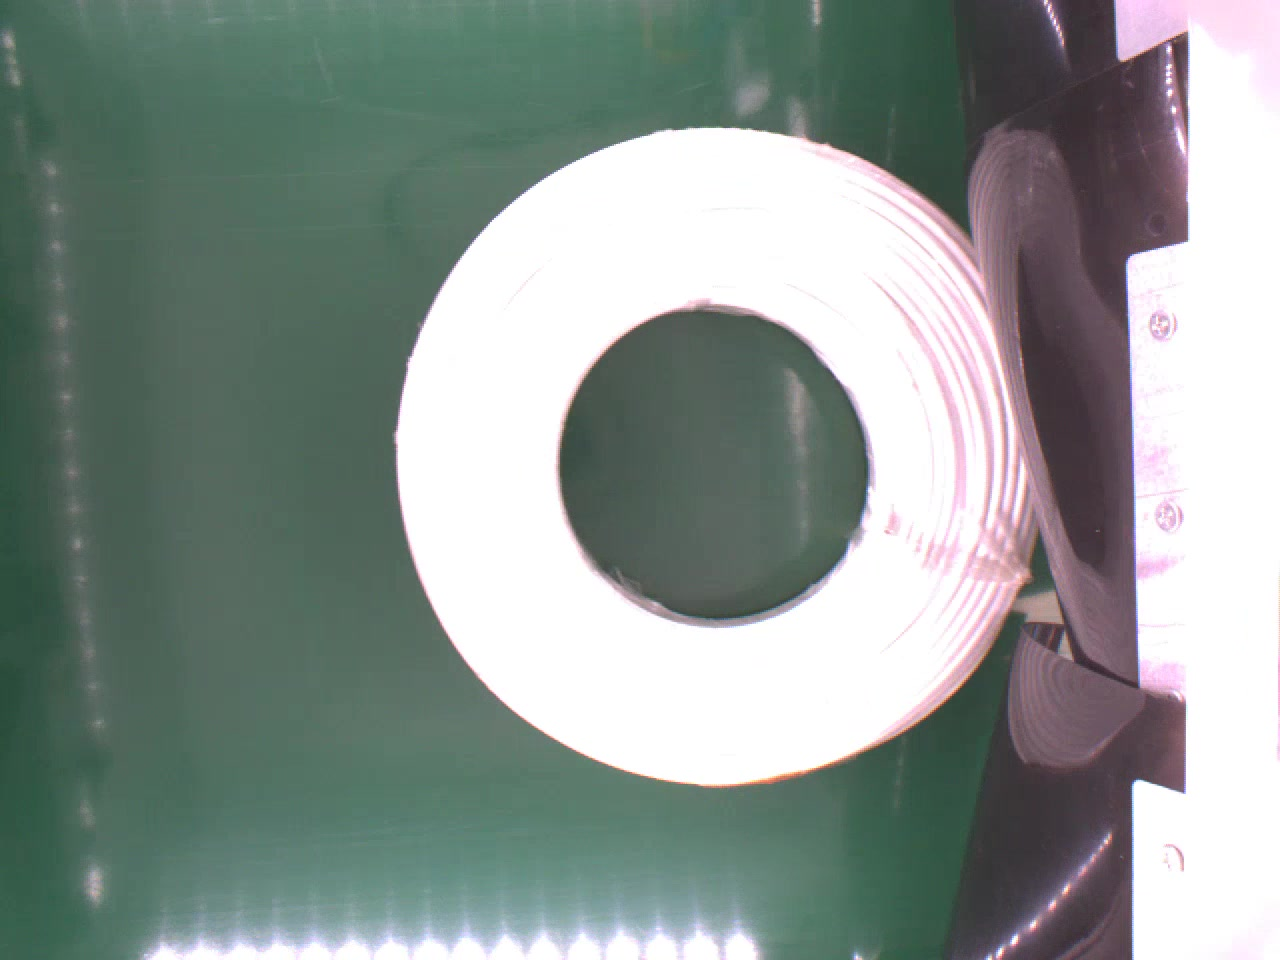white: (393, 128, 1045, 790)
